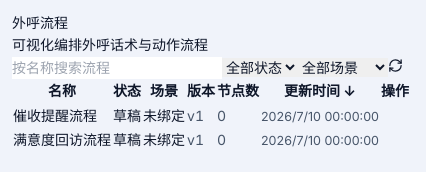
Test: /task-flows 列表页 › 按名称关键字过滤流程
Type "催收" into the field labelled "按名称搜索流程".
click(117, 68); type("催收")  # box x1=12 y1=57 x2=222 y2=79
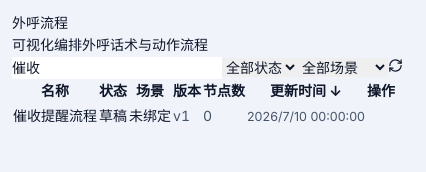
expect the link "满意度回访流程" is gone: met
